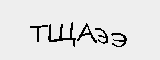А: (76, 18, 97, 46)
Т: (29, 23, 49, 46)
Щ: (45, 19, 77, 48)
Э: (109, 27, 130, 50), (93, 24, 107, 47)
